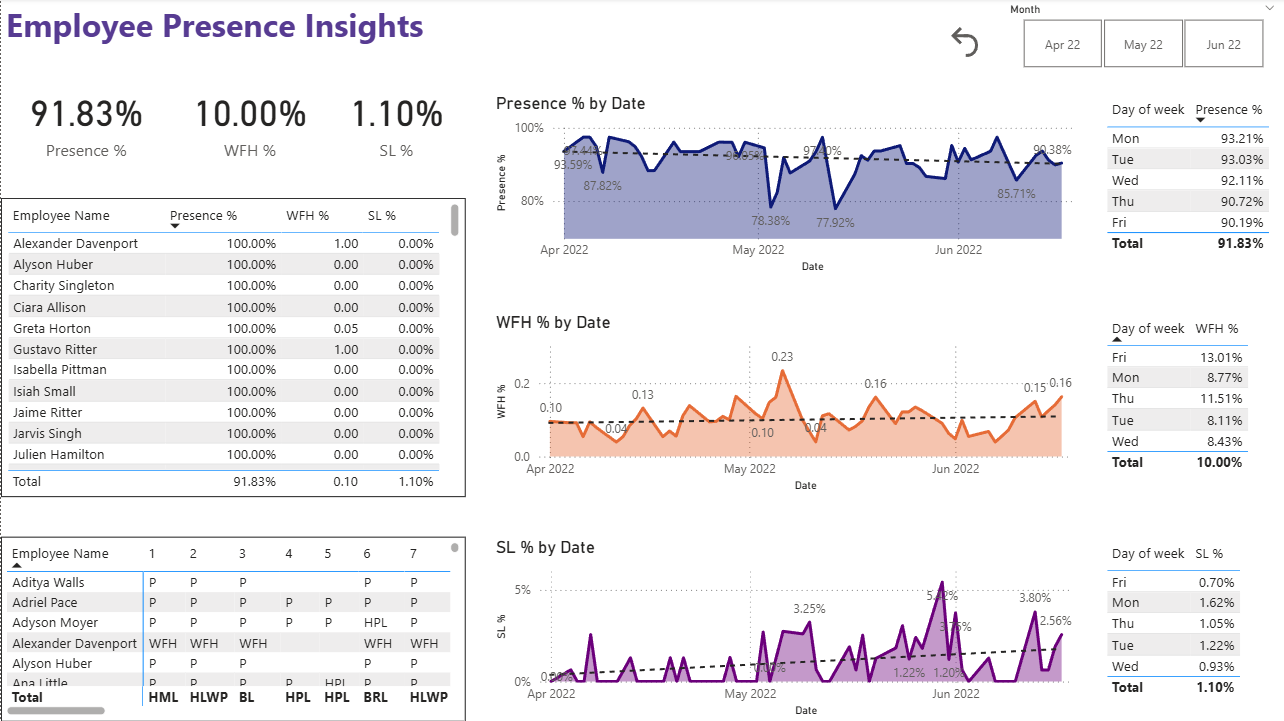

The page's visual inventory and layout, read from the dashboard file:
{"tool":"powerbi","page":{"name":"Page 1","canvas":[1280,720],"ordinal":0},"visuals":[{"type":"card","fields":{"Values":["Measure Table.Presence %"]},"box":[0,63.8,170,117.5],"z":0},{"type":"slicer","fields":{"Values":["combined_data.Month"]},"box":[991.4,0,288.6,75.9],"z":1000},{"type":"card","fields":{"Values":["Measure Table.WFH %"]},"box":[170,63.8,155,117.5],"z":2000},{"type":"card","fields":{"Values":["Measure Table.SL %"]},"box":[324.7,63.4,138.1,118.2],"z":3000},{"type":"tableEx","fields":{"Values":["combined_data.Employee Name","Measure Table.Presence %","Measure Table.WFH %","Measure Table.SL %"]},"box":[0,198.8,462.5,297.5],"z":4000},{"type":"textbox","box":[0,0,448.8,76.2],"z":5000},{"type":"pivotTable","fields":{"Rows":["combined_data.Employee Name"],"Values":["Min(combined_data.Value)"],"Columns":["combined_data.Date.Variation.Date Hierarchy.Day"]},"box":[0,536.2,462.5,183.8],"z":6000},{"type":"areaChart","fields":{"Category":["combined_data.Date"],"Y":["Measure Table.Presence %"]},"box":[487.6,94.5,597.1,184.1],"z":7000},{"type":"areaChart","fields":{"Category":["combined_data.Date"],"Y":["Measure Table.WFH %"]},"box":[487.6,312.2,597.1,184.1],"z":8000},{"type":"areaChart","fields":{"Category":["combined_data.Date"],"Y":["Measure Table.SL %"]},"box":[487.6,536.1,597.1,184.1],"z":9000},{"type":"tableEx","fields":{"Values":["combined_data.1 Day of week","Measure Table.Presence %"]},"box":[1094.7,94.5,174.2,184.1],"z":10000},{"type":"tableEx","fields":{"Values":["combined_data.1 Day of week","Measure Table.WFH %"]},"box":[1094.7,312.2,174.2,184.1],"z":10001},{"type":"tableEx","fields":{"Values":["combined_data.1 Day of week","Measure Table.SL %"]},"box":[1094.7,536.1,174.2,184.1],"z":10002},{"type":"actionButton","box":[938.8,23.8,52.5,40],"z":10003}]}

Visuals, with their boxes in screenshot pixels (x1, y1, x2, y2), scaled from the page's 1280x720 canvas onto the 1284x721 screenshot:
card - Measure Table.Presence %: (x1=0, y1=64, x2=171, y2=182)
slicer - combined_data.Month: (x1=994, y1=0, x2=1283, y2=76)
card - Measure Table.WFH %: (x1=171, y1=64, x2=326, y2=182)
card - Measure Table.SL %: (x1=326, y1=63, x2=464, y2=182)
tableEx - combined_data.Employee Name x Measure Table.Presence %: (x1=0, y1=199, x2=464, y2=497)
textbox: (x1=0, y1=0, x2=450, y2=76)
pivotTable - combined_data.Employee Name x Min(combined_data.Value): (x1=0, y1=537, x2=464, y2=720)
areaChart - combined_data.Date x Measure Table.Presence %: (x1=489, y1=95, x2=1088, y2=279)
areaChart - combined_data.Date x Measure Table.WFH %: (x1=489, y1=313, x2=1088, y2=497)
areaChart - combined_data.Date x Measure Table.SL %: (x1=489, y1=537, x2=1088, y2=720)
tableEx - combined_data.1 Day of week x Measure Table.Presence %: (x1=1098, y1=95, x2=1273, y2=279)
tableEx - combined_data.1 Day of week x Measure Table.WFH %: (x1=1098, y1=313, x2=1273, y2=497)
tableEx - combined_data.1 Day of week x Measure Table.SL %: (x1=1098, y1=537, x2=1273, y2=720)
actionButton: (x1=942, y1=24, x2=994, y2=64)
